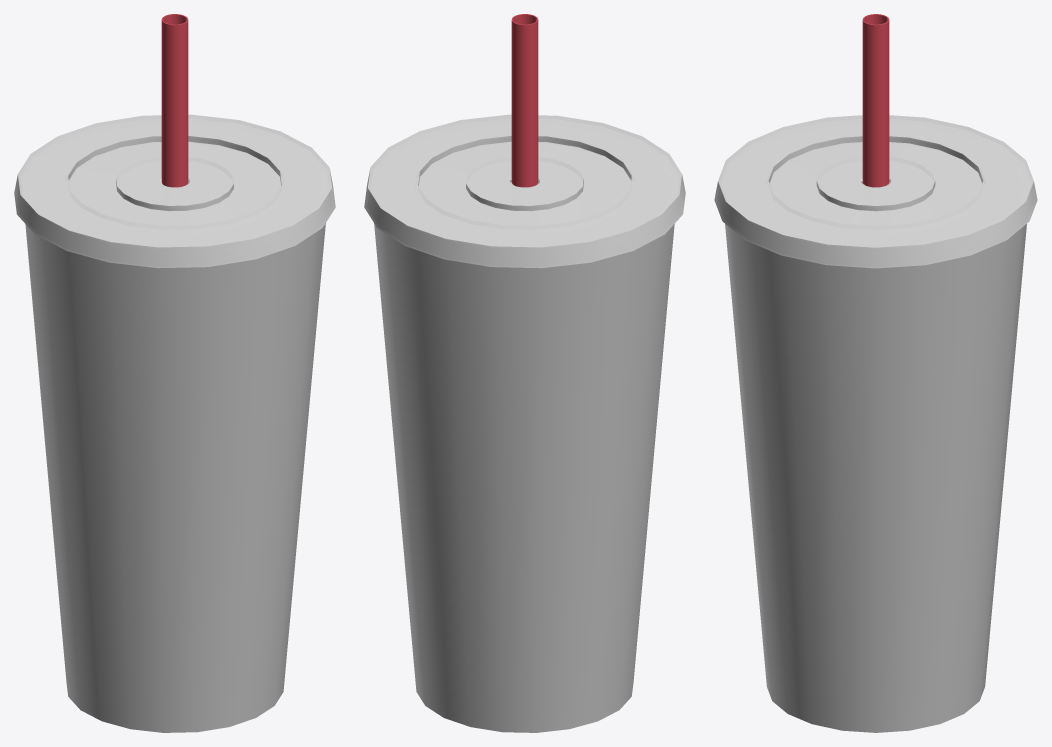
Rendered from SoftDrinkCup.fbx.
3 views of the same model, side by side, from view 1: azimuth 30°, elevation 25°; view 2: azimuth 150°, elevation 25°; view 3: azimuth 270°, elevation 25° (orthographic).
Visible parts, largest first — view 1: SoftDrinkCup; view 2: SoftDrinkCup; view 3: SoftDrinkCup.
Part boxes in pixels (x1,y1,x2,y2): SoftDrinkCup: (14,14,335,732); SoftDrinkCup: (364,14,685,732); SoftDrinkCup: (714,14,1037,732).
Bounding box in the file's own units: 2.21 × 5.04 × 2.21.
